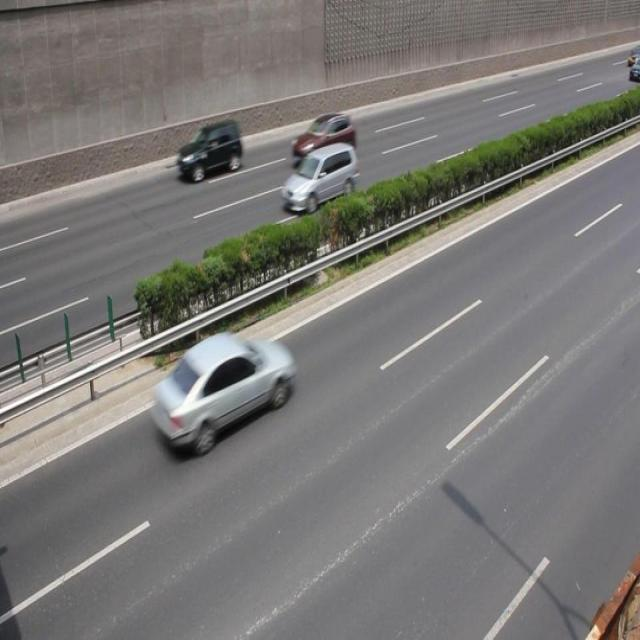car: (147, 332, 293, 455), (280, 142, 358, 215), (176, 122, 243, 184), (288, 110, 354, 171)
